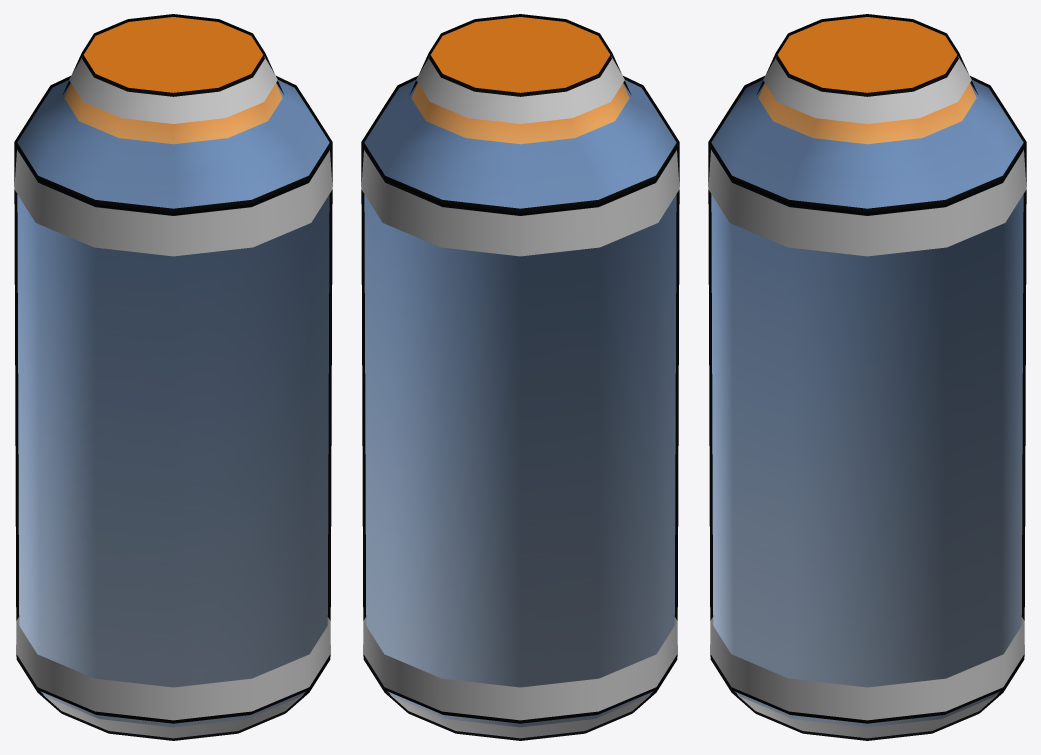
File: Rooms_Paradise_SciFi_Battery_Capsule01_Art.fbx
3 renders of one model, left to right at view 1: azimuth 30°, elevation 25°; view 2: azimuth 150°, elevation 25°; view 3: azimuth 270°, elevation 25°, orthographic.
Visible parts, largest first — view 1: Rooms_Paradise_SciFi_Battery_Capsule01_Art, Rooms_Paradise_SciFi_Battery_Capsule01_Shadows, Rooms_Paradise_SciFi_Battery_Capsule01_Outliner; view 2: Rooms_Paradise_SciFi_Battery_Capsule01_Art, Rooms_Paradise_SciFi_Battery_Capsule01_Shadows, Rooms_Paradise_SciFi_Battery_Capsule01_Outliner; view 3: Rooms_Paradise_SciFi_Battery_Capsule01_Art, Rooms_Paradise_SciFi_Battery_Capsule01_Shadows, Rooms_Paradise_SciFi_Battery_Capsule01_Outliner.
Boxes of the visible parts, x1=… form: Rooms_Paradise_SciFi_Battery_Capsule01_Art: x1=17, y1=17, x2=329, y2=727; Rooms_Paradise_SciFi_Battery_Capsule01_Shadows: x1=14, y1=56, x2=332, y2=738; Rooms_Paradise_SciFi_Battery_Capsule01_Outliner: x1=14, y1=14, x2=332, y2=740; Rooms_Paradise_SciFi_Battery_Capsule01_Art: x1=364, y1=17, x2=676, y2=727; Rooms_Paradise_SciFi_Battery_Capsule01_Shadows: x1=361, y1=56, x2=679, y2=738; Rooms_Paradise_SciFi_Battery_Capsule01_Outliner: x1=361, y1=14, x2=679, y2=740; Rooms_Paradise_SciFi_Battery_Capsule01_Art: x1=711, y1=17, x2=1023, y2=727; Rooms_Paradise_SciFi_Battery_Capsule01_Shadows: x1=708, y1=56, x2=1026, y2=738; Rooms_Paradise_SciFi_Battery_Capsule01_Outliner: x1=708, y1=14, x2=1026, y2=740.
Size of the model in its own units: 43.33 by 95.24 by 43.33.
